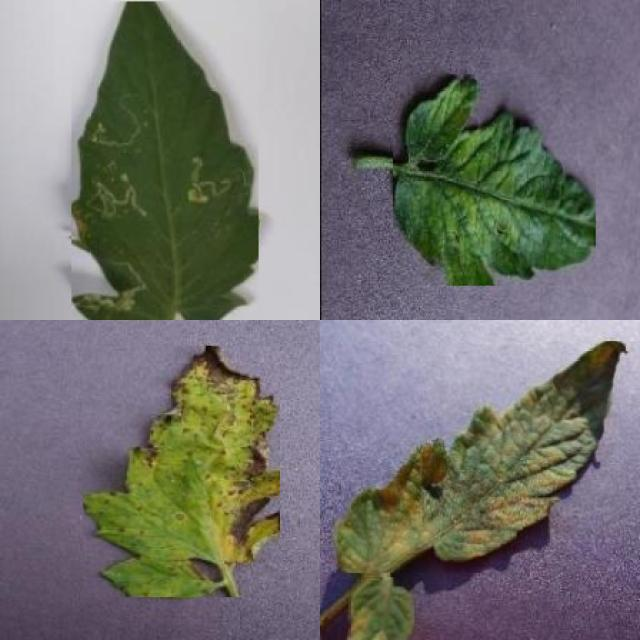Leaf Miner: (72, 1, 258, 320)
Leaf Mold: (334, 340, 626, 573), (349, 577, 414, 640)
Mosaic Virus: (394, 74, 596, 286)
Septoria: (83, 346, 280, 598)
